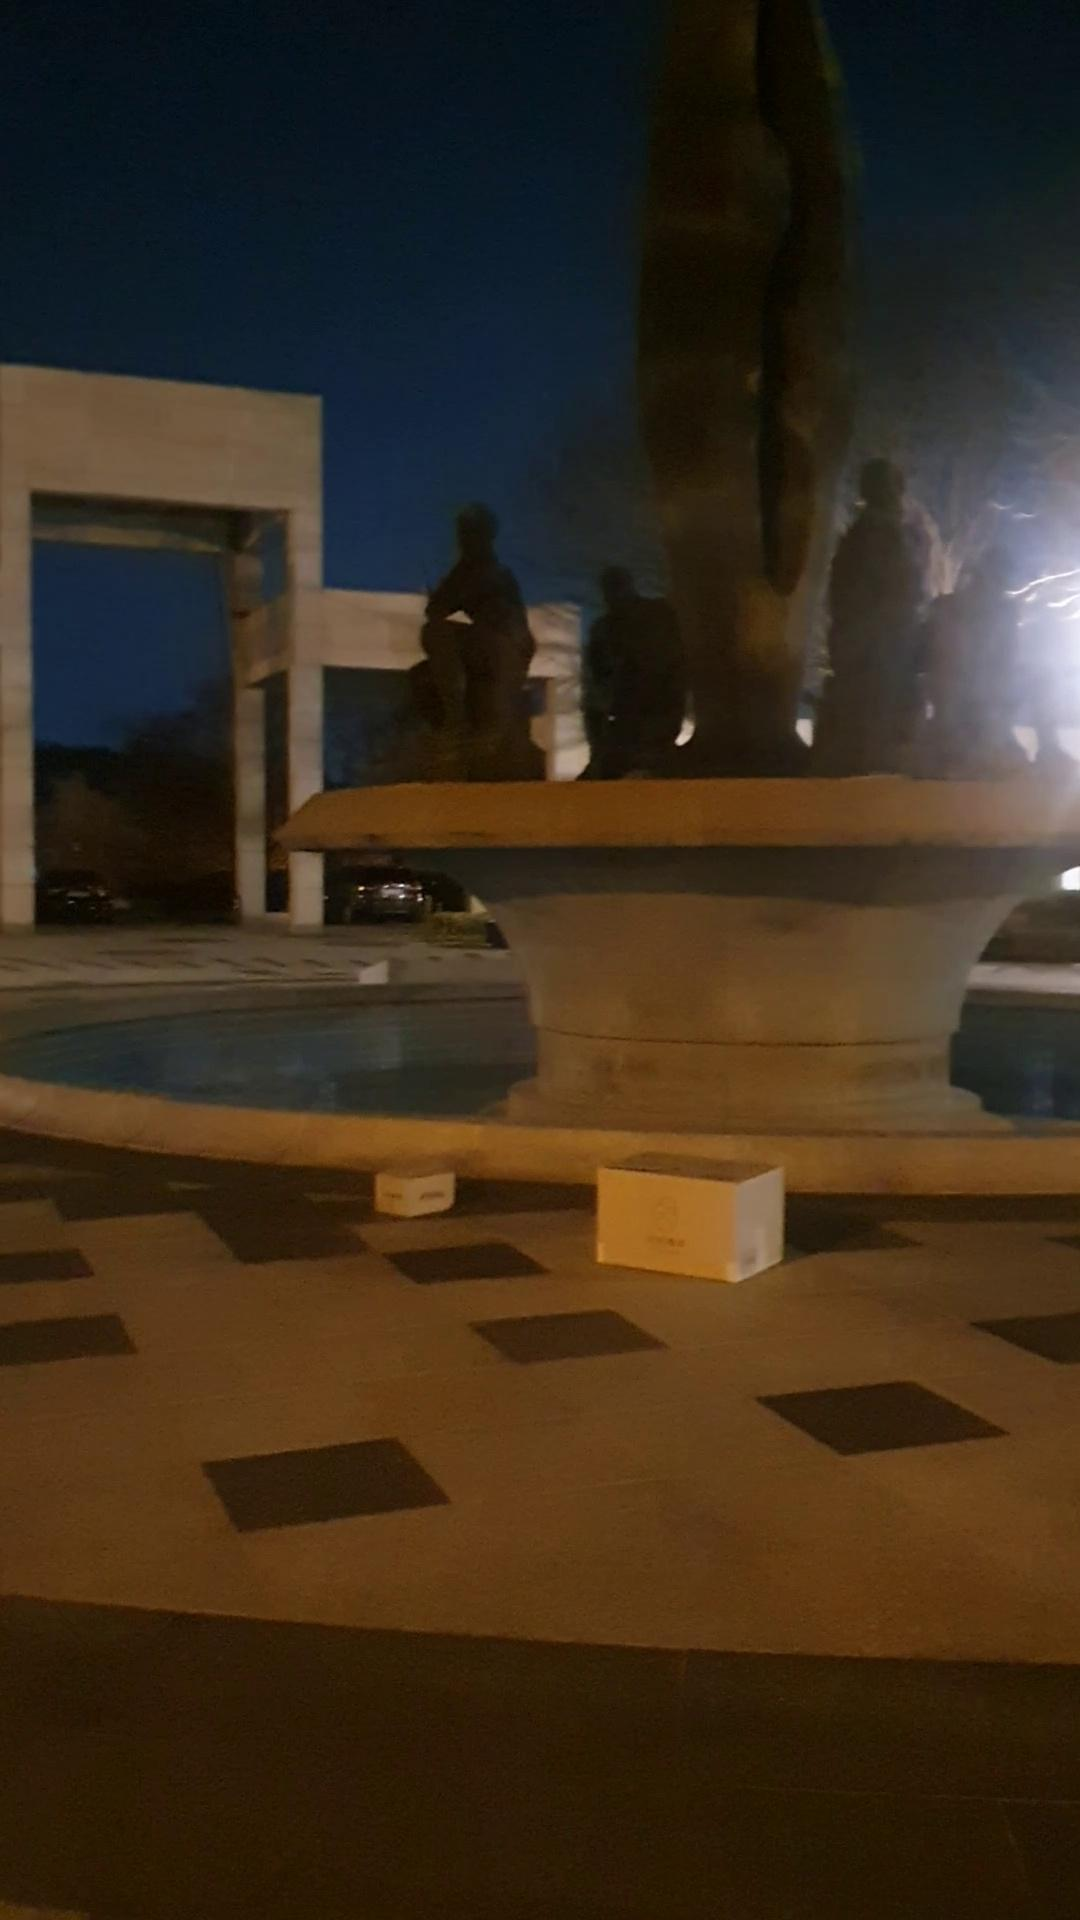Box: (591, 1139, 800, 1298), (361, 1143, 465, 1230)
